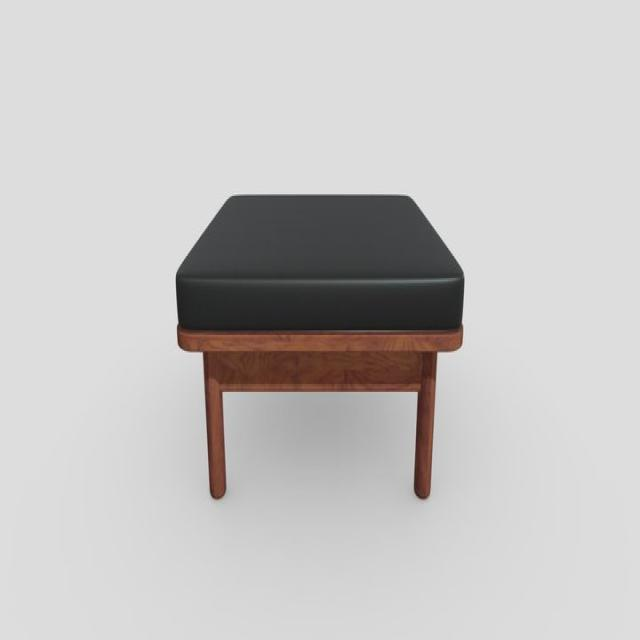table: (176, 192, 465, 500)
